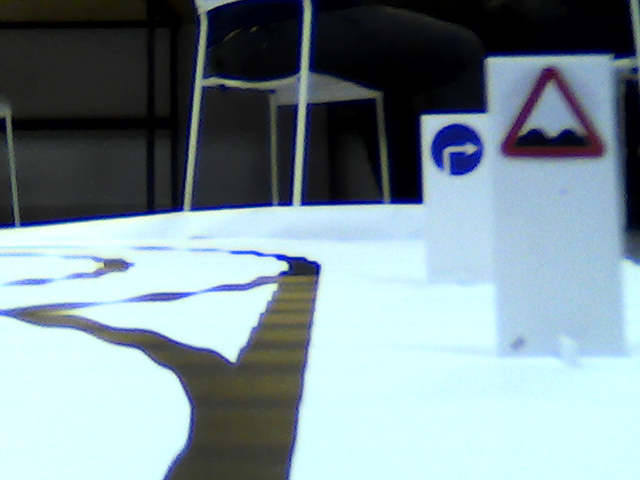Nerov: (505, 67, 603, 160)
Right: (431, 121, 483, 176)
